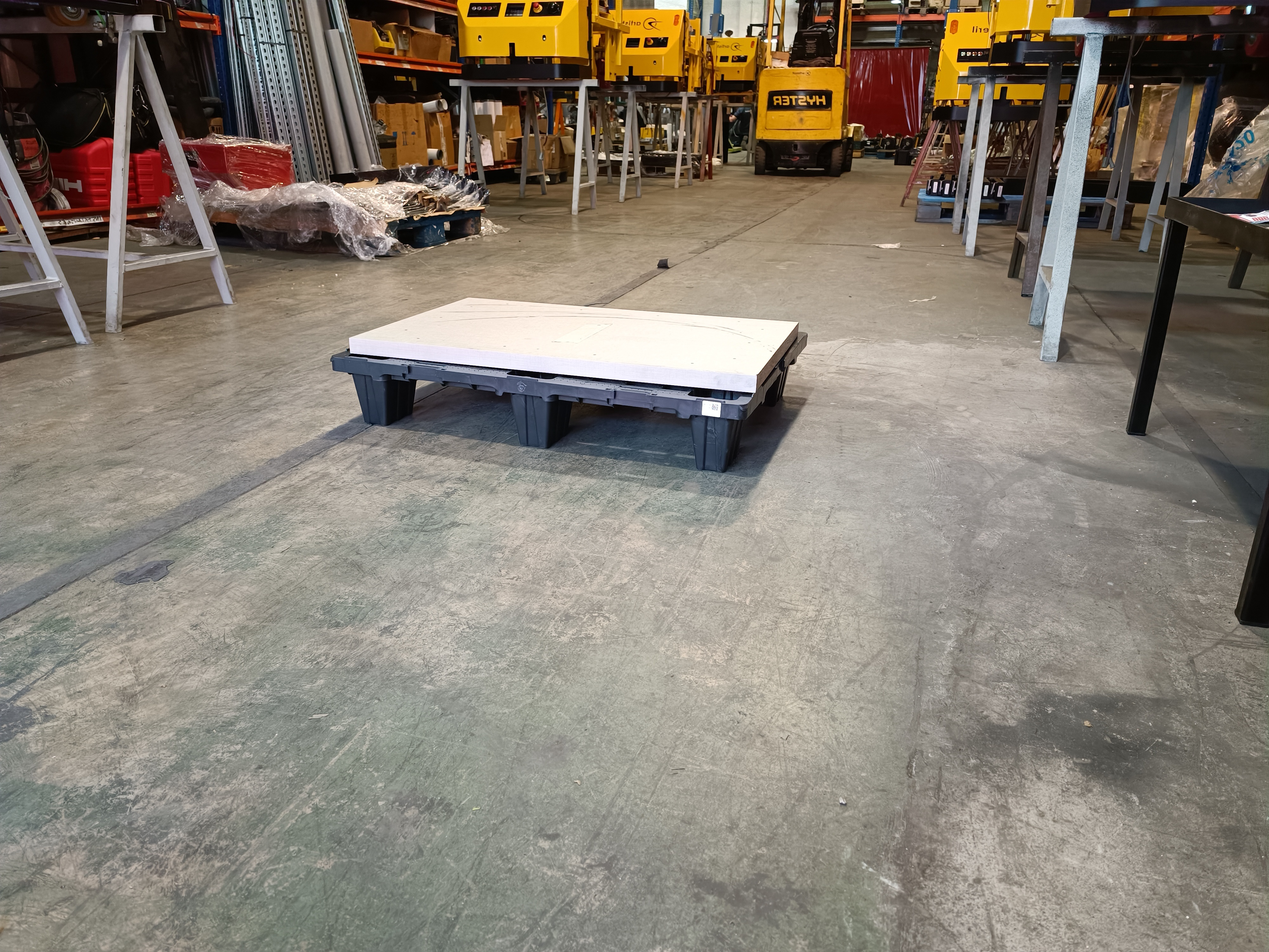block: (347, 376, 419, 428), (512, 396, 571, 457), (688, 414, 732, 478)
front: (326, 356, 740, 492)
hole pallet: (542, 402, 693, 471), (388, 383, 516, 450)
